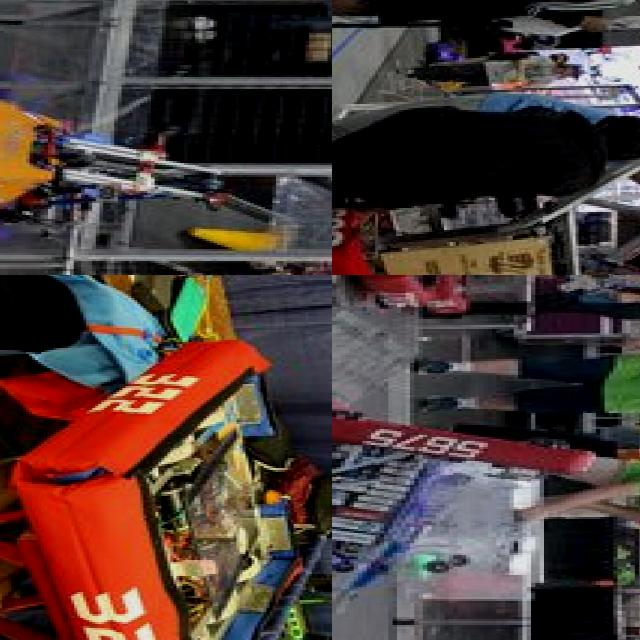FRC-Robots: (85, 342, 332, 640), (332, 400, 604, 612), (0, 47, 235, 275), (332, 156, 640, 275), (425, 275, 585, 327), (354, 275, 442, 315)
